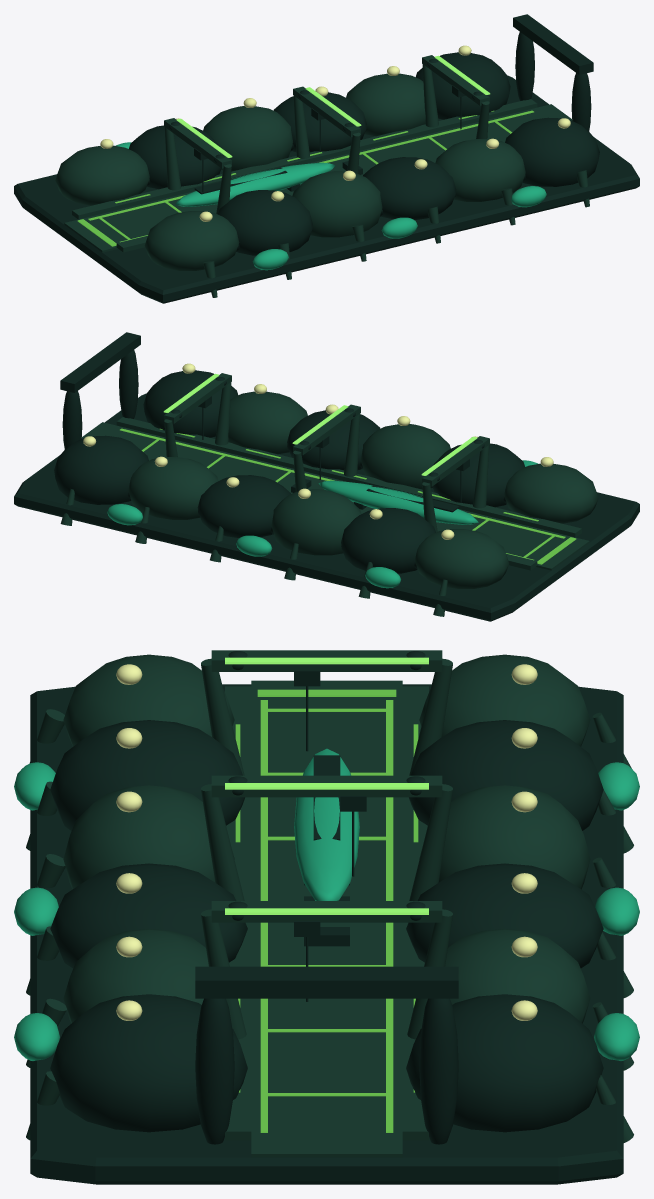
File: slipway-pelagia.glb
The picture shows the model from 3 angles, top to bottom: view 1: azimuth 30°, elevation 25°; view 2: azimuth 150°, elevation 25°; view 3: azimuth 270°, elevation 25°; orthographic projection. The views are drawn at different scales.
Parts seen in each view (by area): view 1: foundation_slab, husk_lobe_0 (×2), husk_lobe_2 (×2), husk_lobe_5 (×2), husk_lobe_4 (×2), husk_lobe_1 (×2), husk_lobe_3 (×2), slip_floor, slip_lip, gantry_beam (×3), hull_in_progress, gantry_leg_p (×3) (+8 smaller); view 2: foundation_slab, husk_lobe_0 (×2), husk_lobe_2 (×2), husk_lobe_5 (×2), husk_lobe_4 (×2), husk_lobe_1 (×2), husk_lobe_3 (×2), slip_floor, slip_lip, gantry_beam (×3), hull_in_progress, gantry_leg_s (×3) (+8 smaller); view 3: foundation_slab, slip_floor, husk_lobe_5 (×2), husk_lobe_1 (×2), husk_lobe_3 (×2), husk_lobe_2 (×2), husk_lobe_0 (×2), husk_lobe_4 (×2), slip_lip (×2), gantry_beam (×3), head_lintel, hull_in_progress (+13 smaller).
Part boxes in pixels (left/top/right/bottom): foundation_slab: left=14, top=75, right=639, bottom=303; husk_lobe_0 (×2): left=55, top=145, right=239, bottom=270; husk_lobe_2 (×2): left=203, top=106, right=382, bottom=237; husk_lobe_5 (×2): left=416, top=52, right=599, bottom=186; husk_lobe_4 (×2): left=346, top=73, right=525, bottom=201; husk_lobe_1 (×2): left=129, top=125, right=312, bottom=255; husk_lobe_3 (×2): left=273, top=92, right=456, bottom=220; slip_floor: left=64, top=104, right=572, bottom=252; slip_lip: left=72, top=99, right=537, bottom=219; gantry_beam (×3): left=164, top=55, right=489, bottom=168; hull_in_progress: left=175, top=162, right=335, bottom=206; gantry_leg_p (×3): left=164, top=64, right=438, bottom=190; foundation_slab: left=14, top=393, right=639, bottom=621; husk_lobe_0 (×2): left=414, top=463, right=598, bottom=588; husk_lobe_2 (×2): left=271, top=424, right=450, bottom=555; husk_lobe_5 (×2): left=54, top=370, right=237, bottom=504; husk_lobe_4 (×2): left=128, top=391, right=307, bottom=519; husk_lobe_1 (×2): left=341, top=443, right=524, bottom=573; husk_lobe_3 (×2): left=197, top=410, right=380, bottom=538; slip_floor: left=81, top=422, right=589, bottom=570; slip_lip: left=116, top=417, right=581, bottom=537; gantry_beam (×3): left=164, top=373, right=489, bottom=486; hull_in_progress: left=318, top=480, right=478, bottom=524; gantry_leg_s (×3): left=215, top=382, right=489, bottom=508; foundation_slab: left=30, top=684, right=623, bottom=1184; slip_floor: left=251, top=680, right=402, bottom=1157; husk_lobe_5 (×2): left=50, top=994, right=603, bottom=1132; husk_lobe_1 (×2): left=50, top=720, right=603, bottom=830; husk_lobe_3 (×2): left=50, top=863, right=603, bottom=968; husk_lobe_2 (×2): left=63, top=785, right=590, bottom=889; husk_lobe_0 (×2): left=63, top=654, right=590, bottom=746; husk_lobe_4 (×2): left=63, top=929, right=590, bottom=1023; slip_lip (×2): left=225, top=686, right=428, bottom=1140; gantry_beam (×3): left=211, top=650, right=442, bottom=922; head_lintel: left=195, top=966, right=458, bottom=998; hull_in_progress: left=294, top=748, right=359, bottom=900.
Bounding box in the file's own units: 340 × 68.71 × 188.
